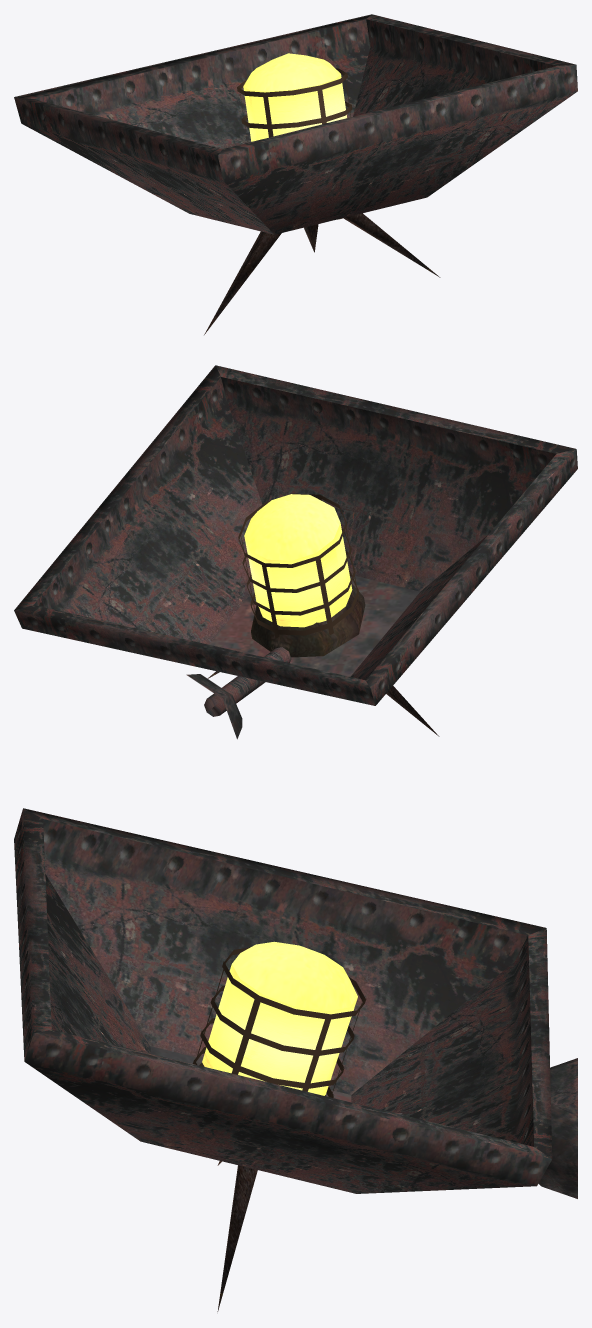
File: lamp_shaded03.glb
3 renders of one model, top to bottom at view 1: azimuth 30°, elevation 25°; view 2: azimuth 150°, elevation 25°; view 3: azimuth 270°, elevation 25°, orthographic. The views are drawn at different scales.
Visible parts, largest first — view 1: Layer_0; view 2: Layer_0; view 3: Layer_0.
Boxes of the visible parts, left/top/right/bottom form: Layer_0: left=14, top=14, right=577, bottom=334; Layer_0: left=14, top=365, right=577, bottom=739; Layer_0: left=14, top=808, right=577, bottom=1311.
Bounding box in the file's own units: 0.7422 × 0.4929 × 0.7879.
4 materials, 4 textured.
